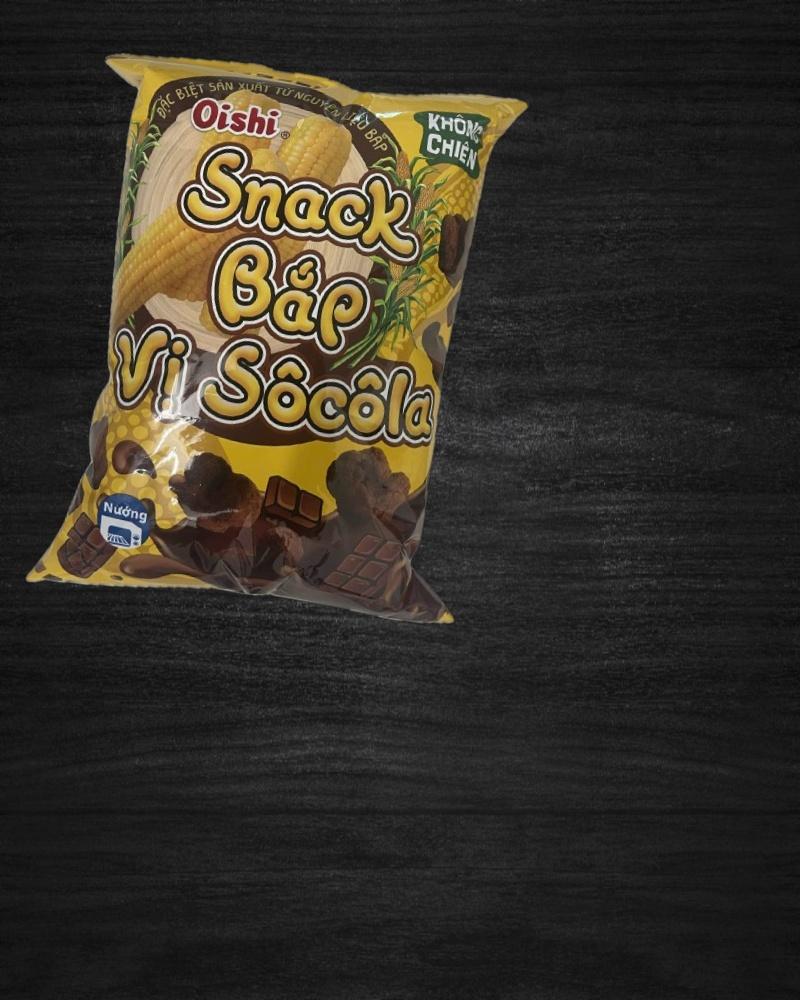Snack socola: (18, 32, 546, 645)
